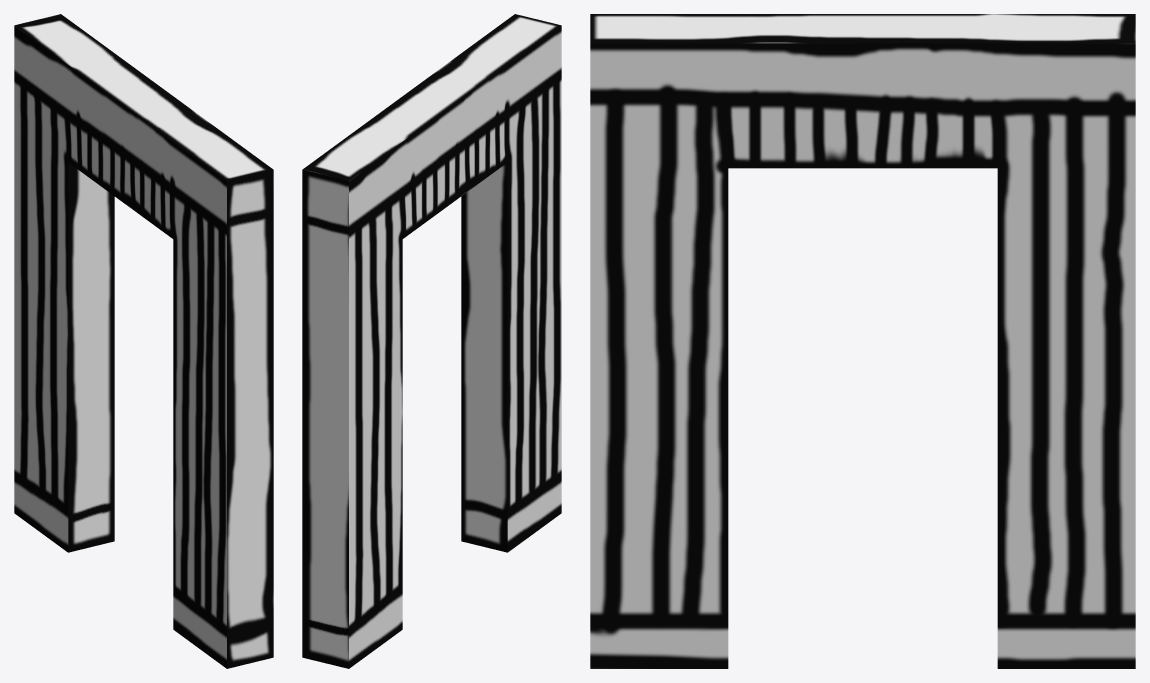
The model's file is doorway.fbx.
3 views of the same model, side by side, from view 1: azimuth 30°, elevation 25°; view 2: azimuth 150°, elevation 25°; view 3: azimuth 270°, elevation 25° (orthographic). The views are drawn at different scales.
Parts seen in each view (by area): view 1: Cube.001; view 2: Cube.001; view 3: Cube.001.
Boxes of the visible parts, box(x1,y1,x2,y2) form: Cube.001: box(14, 14, 273, 668); Cube.001: box(302, 14, 561, 668); Cube.001: box(590, 14, 1135, 668).
Bounding box in the file's own units: 100 × 1000 × 790.
